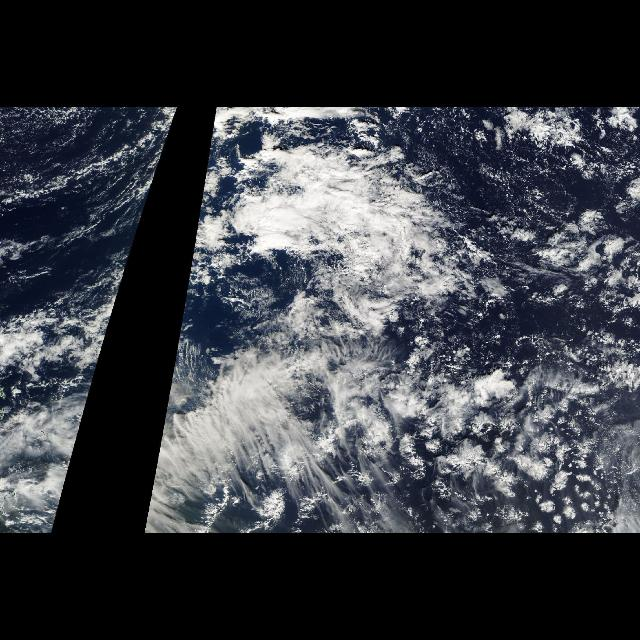Fish: (182, 126, 520, 312), (149, 326, 385, 502), (131, 127, 173, 257), (86, 326, 112, 408)
Flower: (402, 332, 630, 530)
